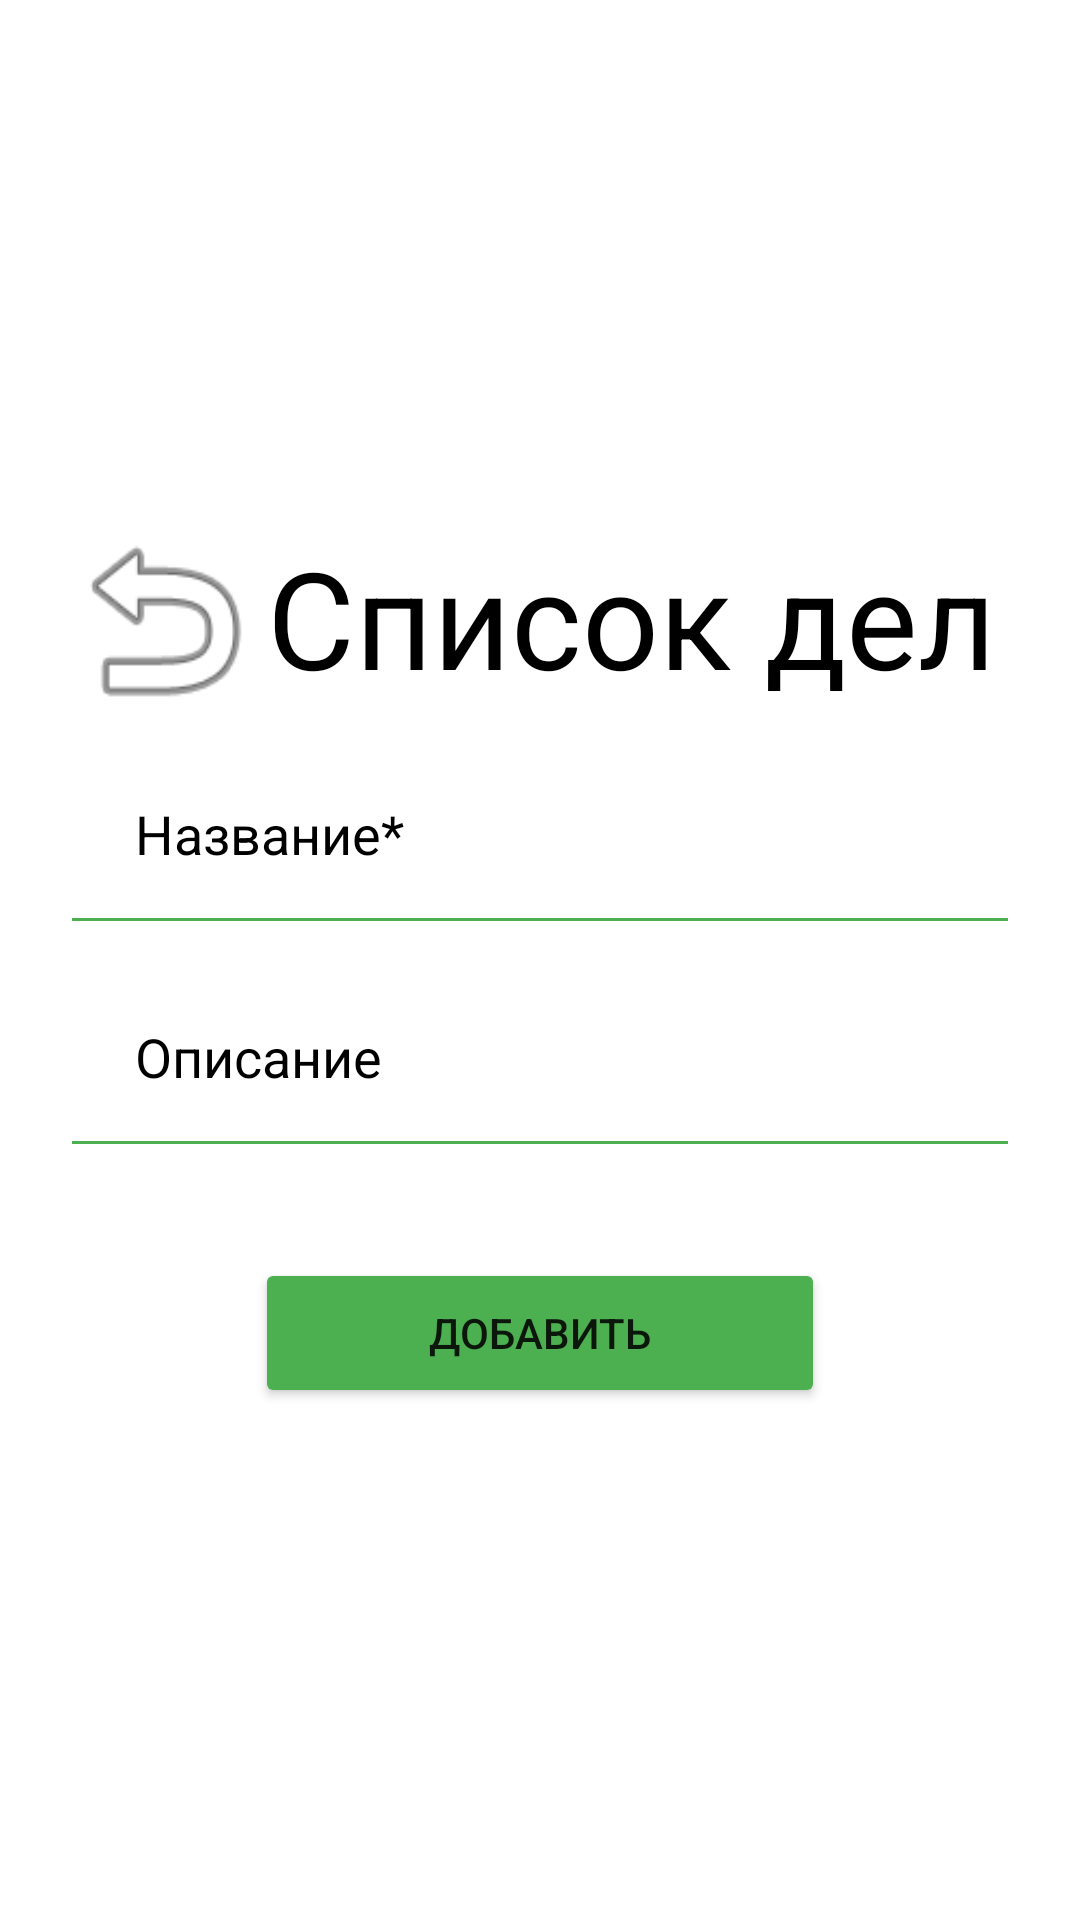

Screen size 1080 x 1920. Icon name, then its box in pixels as Rect(x1, y1, x2, y2):
revert: Rect(91, 547, 241, 696)
